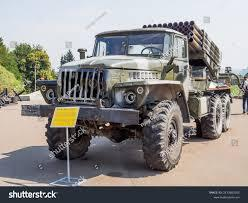MIL_SAM_TEL: (46, 16, 236, 164)
